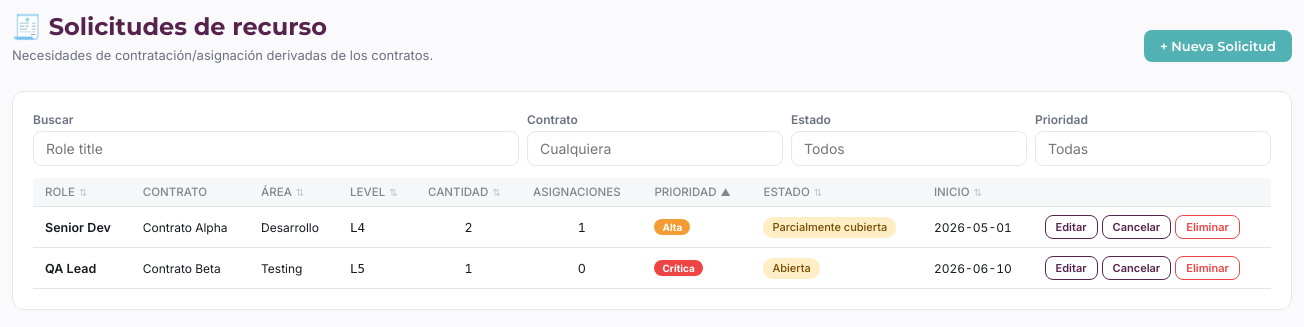
Test: ResourceRequests module › contract filter excludes completed/cancelled contracts
Expected: the text "Senior Dev" is shown, [33, 206, 131, 248]
Open the SearchableSelect filter bar to inspect available options
Step 1. Click the dropdown named "Filtro por contrato" → x=655, y=148, box [527, 131, 783, 166]
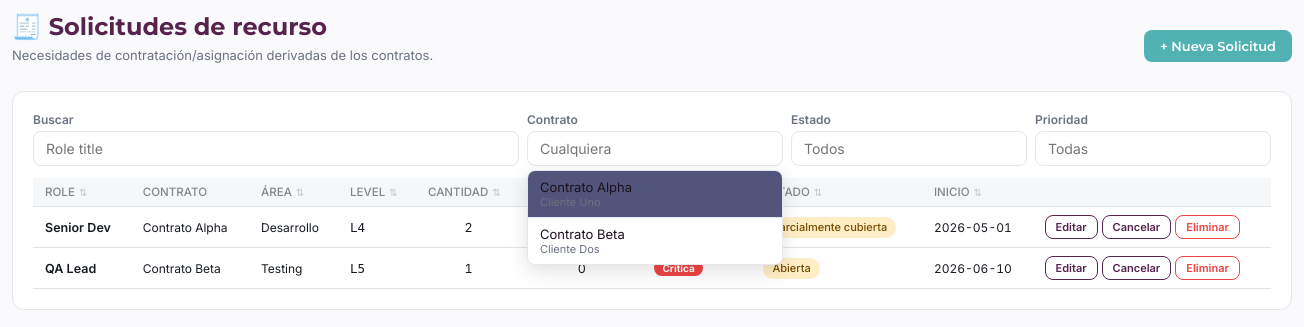
Now the text "Contrato Alpha" is shown, box [540, 179, 632, 195]
Now the text "Contrato Beta" is shown, box [540, 226, 625, 242]
